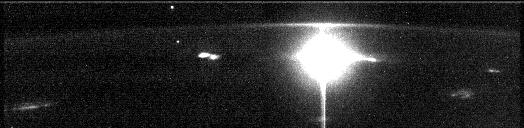positive: (316, 26, 333, 36)
